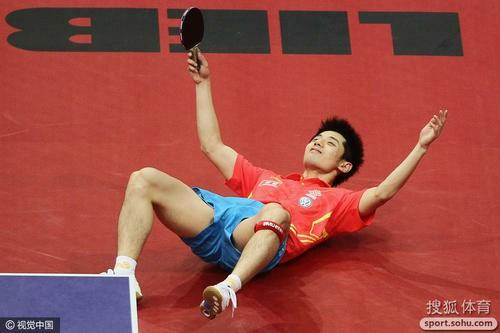down: (112, 48, 424, 307)
